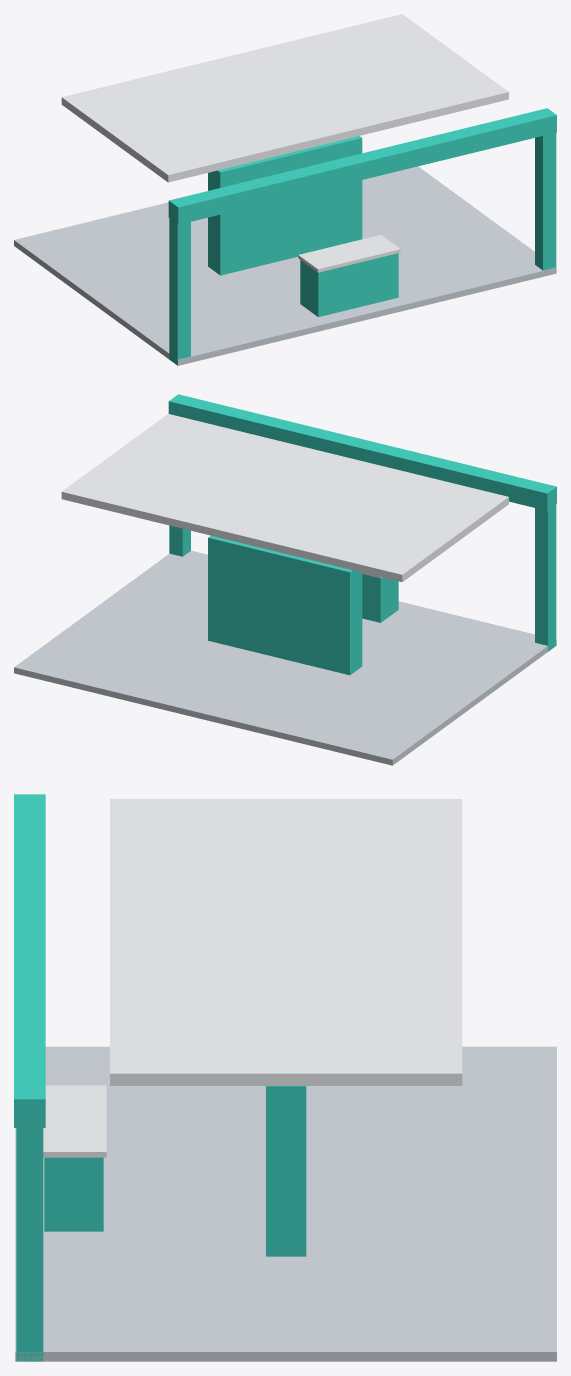
The picture shows the model from 3 angles, top to bottom: view 1: azimuth 30°, elevation 25°; view 2: azimuth 150°, elevation 25°; view 3: azimuth 270°, elevation 25°; orthographic projection. The views are drawn at different scales.
Parts seen in each view (by area): view 1: Exhibition Booth Concept; view 2: Exhibition Booth Concept; view 3: Exhibition Booth Concept.
Boxes of the visible parts, x1,y1,x2,y2 form: Exhibition Booth Concept: (14, 14, 556, 365); Exhibition Booth Concept: (14, 394, 556, 765); Exhibition Booth Concept: (14, 794, 556, 1361).
Bounding box in the file's own units: 8 × 3.34 × 6.02.
